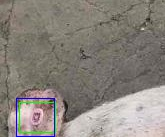text: (19, 102, 55, 132)
